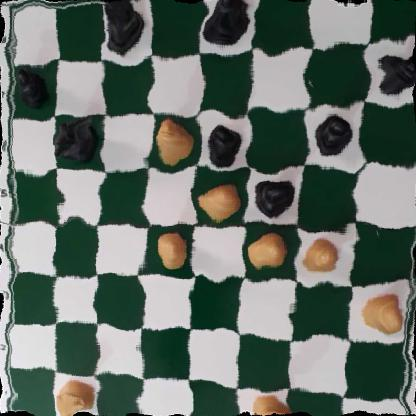black-king: (202, 0, 252, 50)
black-knight: (54, 114, 99, 164)
black-pawn: (373, 45, 416, 97), (312, 113, 353, 162), (253, 174, 295, 216), (200, 126, 245, 165), (15, 66, 48, 108)
black-rook: (101, 0, 150, 53)
white-bishop: (151, 114, 193, 158)
white-king: (246, 388, 291, 416)
white-pawn: (360, 286, 409, 333), (302, 236, 345, 279), (198, 178, 241, 220), (251, 230, 287, 271), (155, 231, 190, 268)
white-rook: (58, 376, 95, 416)
